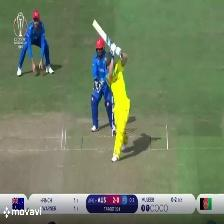batsman: (92, 18, 132, 162)
